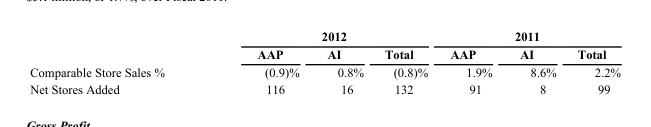table: (29, 28, 620, 95)
table column: (29, 28, 210, 95), (210, 28, 312, 95), (438, 28, 505, 95), (373, 28, 438, 95), (312, 28, 373, 95), (505, 28, 566, 95), (566, 28, 620, 95)
table column header: (29, 28, 620, 62)
table row: (29, 44, 620, 62), (29, 62, 620, 80), (29, 28, 620, 44), (29, 80, 620, 95)
table spanning cell: (210, 28, 438, 44), (438, 28, 620, 44)
